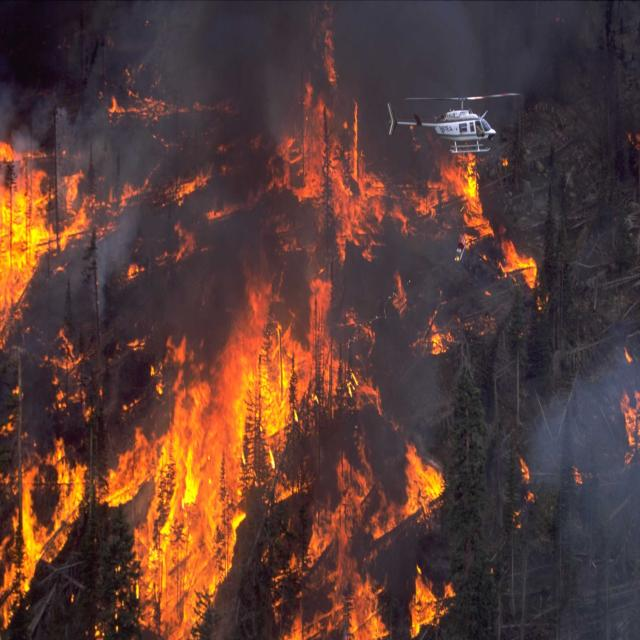Fire: (0, 290, 444, 640), (289, 29, 538, 286), (0, 114, 97, 320)
